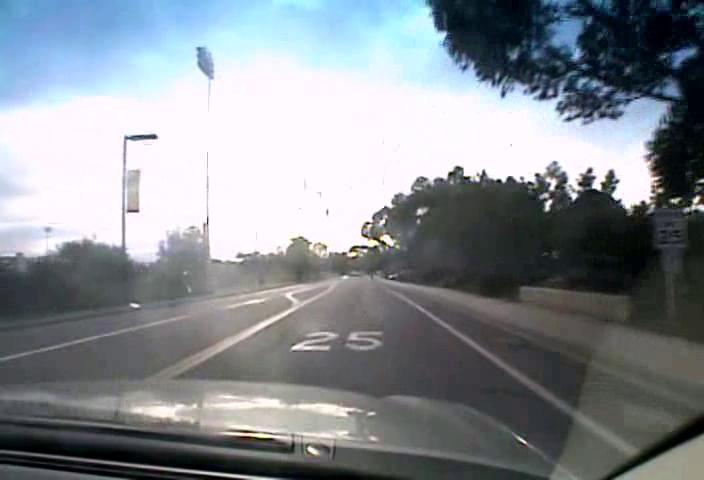speedLimit25: (651, 207, 687, 246)
